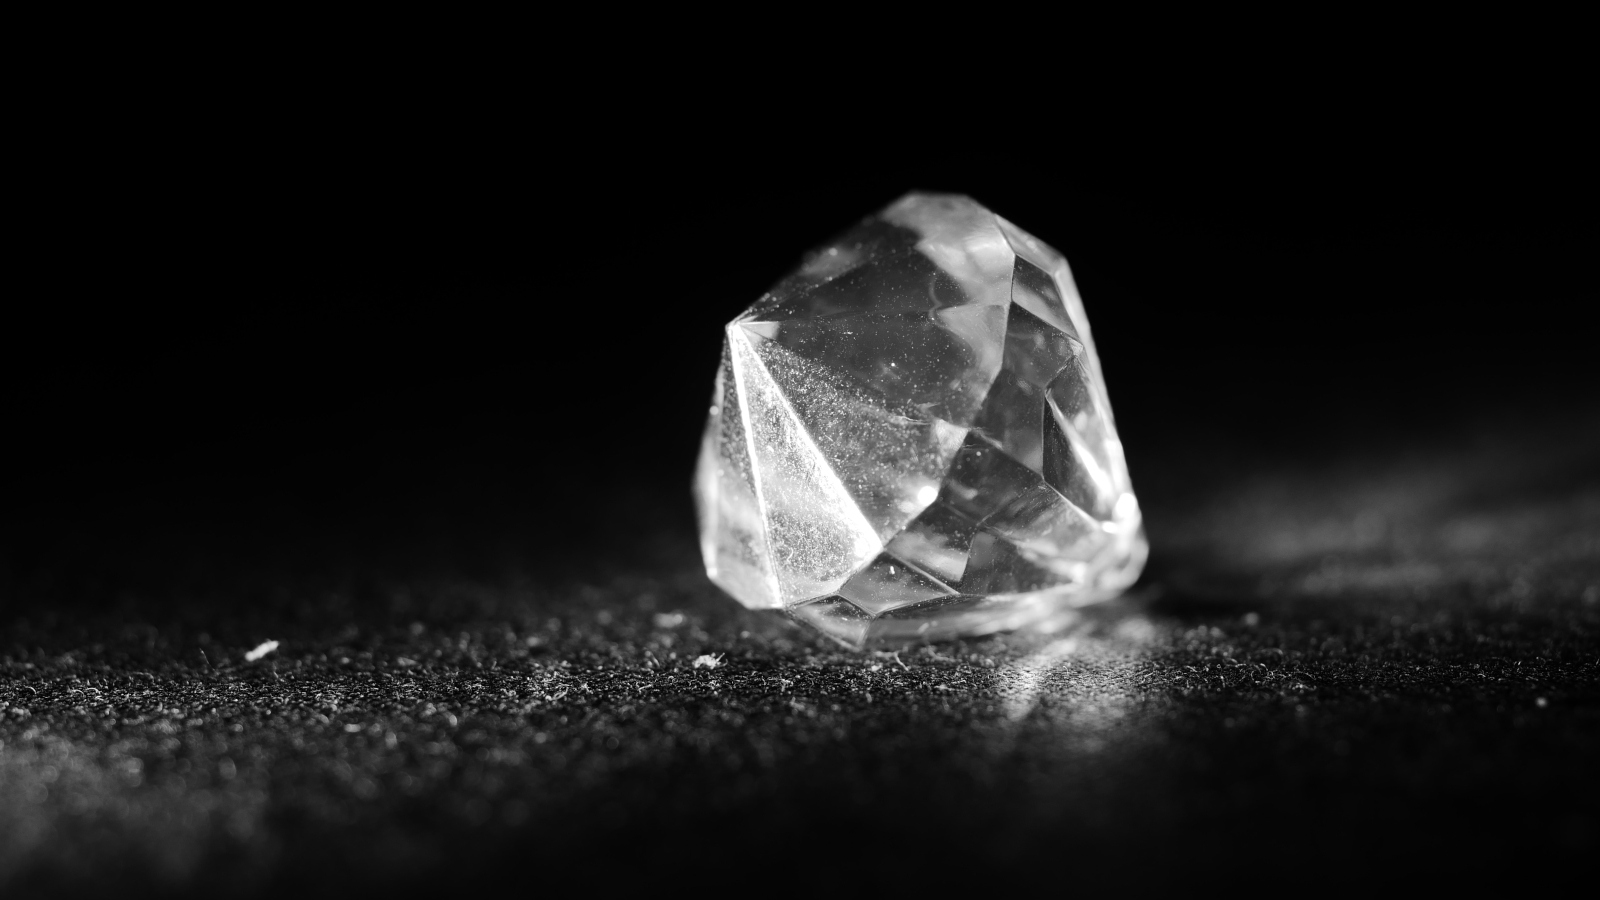Clear_Quartz: (682, 182, 1152, 651)
